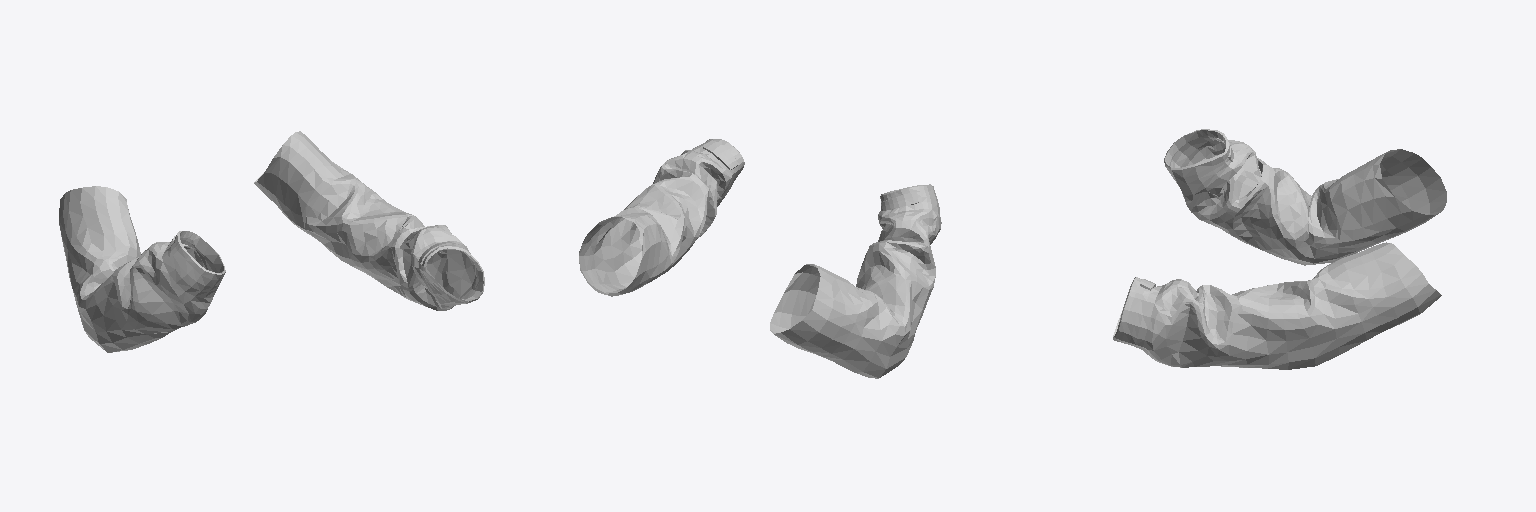
The model's file is fps_arm.obj.
3 renders of one model, left to right at view 1: azimuth 30°, elevation 25°; view 2: azimuth 150°, elevation 25°; view 3: azimuth 270°, elevation 25°, orthographic.
Visible parts, largest first — view 1: Arm_mesh001; view 2: Arm_mesh001; view 3: Arm_mesh001.
Boxes of the visible parts, box(x1,y1,x2,y2) form: Arm_mesh001: box(59, 131, 484, 352); Arm_mesh001: box(579, 139, 941, 378); Arm_mesh001: box(1113, 129, 1446, 369).
Bounding box in the file's own units: 0.7212 × 0.317 × 0.6675.